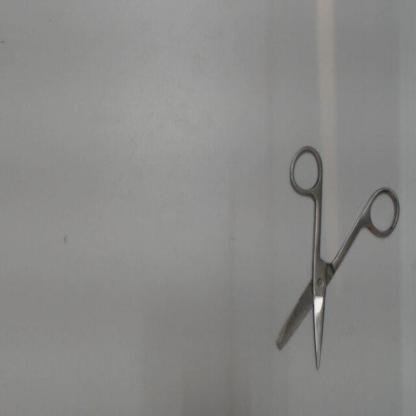Dressing Scissors: (267, 137, 406, 381)
